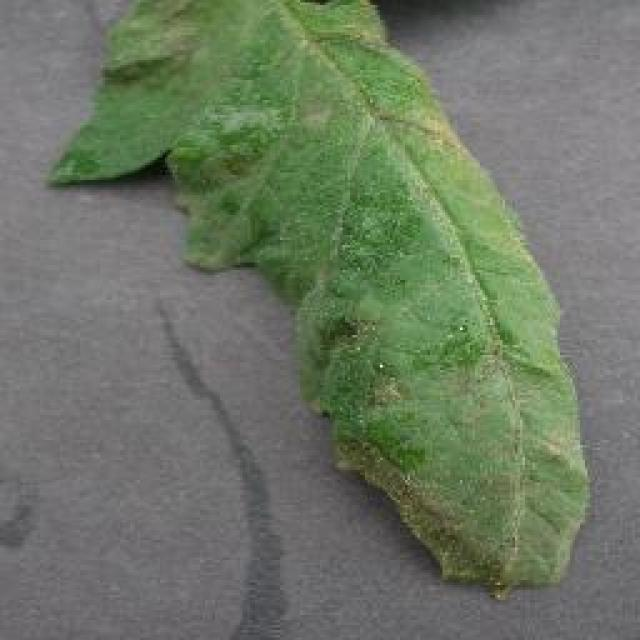Tomato late blight leaf: (51, 0, 588, 590)
